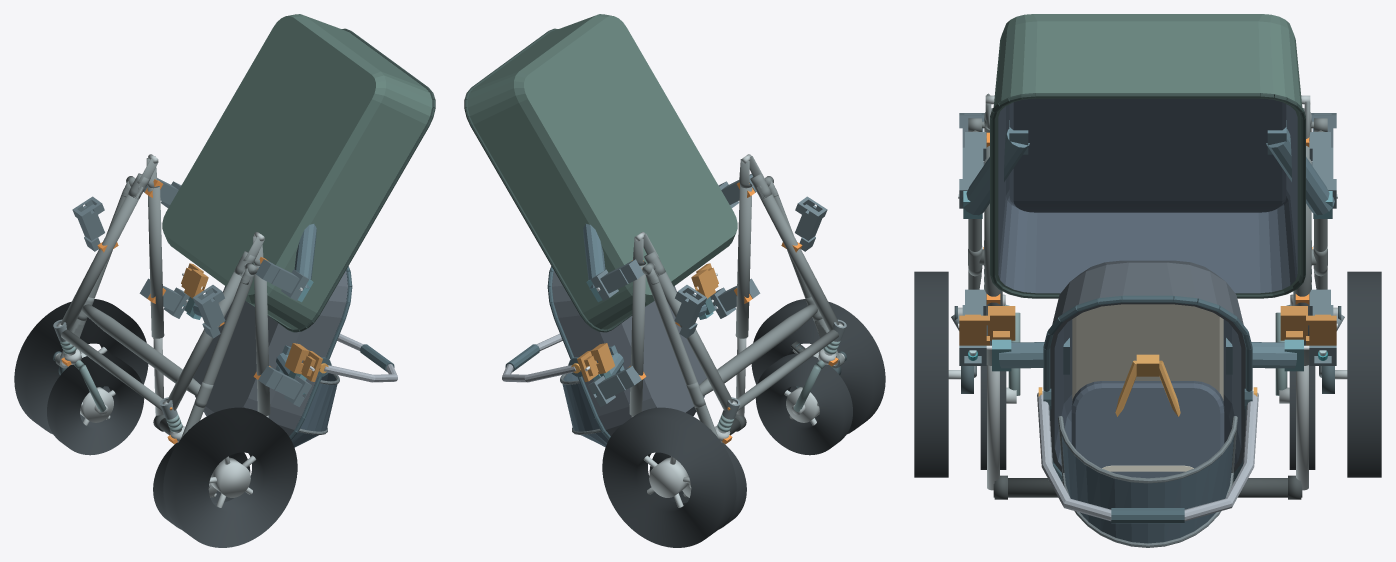
The model's file is D13_w650_state3_wheel_L.glb.
3 views of the same model, side by side, from view 1: azimuth 30°, elevation 25°; view 2: azimuth 150°, elevation 25°; view 3: azimuth 270°, elevation 25° (orthographic). The views are drawn at different scales.
Visible parts, largest first — view 1: D13_Lower, RL_tire.008, D13_Upper, FR_tire.008, RR_tire.008, V46_rearbar.009, main_upper_1.009, main_lower_1.009, V46_rear_leg_-1.009, main_upper_-1.009, main_lower_-1.009, front_fixed_round_tube.008 (+13 smaller); view 2: D13_Lower, RR_tire.008, D13_Upper, FL_tire.008, RL_tire.008, V46_rearbar.009, main_upper_-1.009, main_lower_-1.009, V46_rear_leg_1.009, main_upper_1.009, main_lower_1.009, front_fixed_round_tube.008 (+13 smaller); view 3: D13_Lower, D13_Upper, RL_tire.008, RR_tire.008, D13_Lower_Mount_M, D13_Upper_Mount_H, round_handle.008, D02_WideAdapter_H_-1, D02_WideAdapter_H_1, handle_slider_1.008, handle_slider_-1.008, FL_tire.008 (+9 smaller).
Part boxes in pixels (x1=…): D13_Lower: x1=162, y1=14, x2=435, y2=332; RL_tire.008: x1=163, y1=407, x2=297, y2=547; D13_Upper: x1=193, y1=266, x2=397, y2=447; FR_tire.008: x1=47, y1=353, x2=144, y2=455; RR_tire.008: x1=14, y1=299, x2=148, y2=434; V46_rearbar.009: x1=82, y1=304, x2=200, y2=396; main_upper_1.009: x1=147, y1=186, x2=164, y2=338; main_lower_1.009: x1=60, y1=187, x2=143, y2=330; V46_rear_leg_-1.009: x1=181, y1=274, x2=253, y2=438; main_upper_-1.009: x1=253, y1=263, x2=270, y2=415; main_lower_-1.009: x1=166, y1=270, x2=244, y2=410; front_fixed_round_tube.008: x1=61, y1=329, x2=162, y2=410; D13_Lower: x1=464, y1=14, x2=737, y2=332; RR_tire.008: x1=602, y1=407, x2=736, y2=547; D13_Upper: x1=502, y1=266, x2=706, y2=447; FL_tire.008: x1=755, y1=353, x2=852, y2=455; RL_tire.008: x1=751, y1=299, x2=885, y2=434; V46_rearbar.009: x1=699, y1=304, x2=817, y2=396; main_upper_-1.009: x1=735, y1=186, x2=752, y2=338; main_lower_-1.009: x1=756, y1=187, x2=839, y2=330; V46_rear_leg_1.009: x1=646, y1=274, x2=718, y2=438; main_upper_1.009: x1=629, y1=262, x2=646, y2=415; main_lower_1.009: x1=655, y1=270, x2=733, y2=410; front_fixed_round_tube.008: x1=737, y1=329, x2=838, y2=410; D13_Lower: x1=990, y1=14, x2=1305, y2=298; D13_Upper: x1=1037, y1=260, x2=1258, y2=547; RL_tire.008: x1=914, y1=271, x2=948, y2=477; RR_tire.008: x1=1347, y1=271, x2=1381, y2=477; D13_Lower_Mount_M: x1=958, y1=120, x2=1337, y2=218; D13_Upper_Mount_H: x1=986, y1=338, x2=1309, y2=374; round_handle.008: x1=993, y1=478, x2=1302, y2=497; D02_WideAdapter_H_-1: x1=958, y1=306, x2=1015, y2=345; D02_WideAdapter_H_1: x1=1280, y1=306, x2=1337, y2=345; handle_slider_1.008: x1=1296, y1=365, x2=1308, y2=490; handle_slider_-1.008: x1=987, y1=365, x2=999, y2=490; FL_tire.008: x1=980, y1=365, x2=1006, y2=469.
Size of the model in its own units: 0.8693 by 1.12 by 0.8171.
